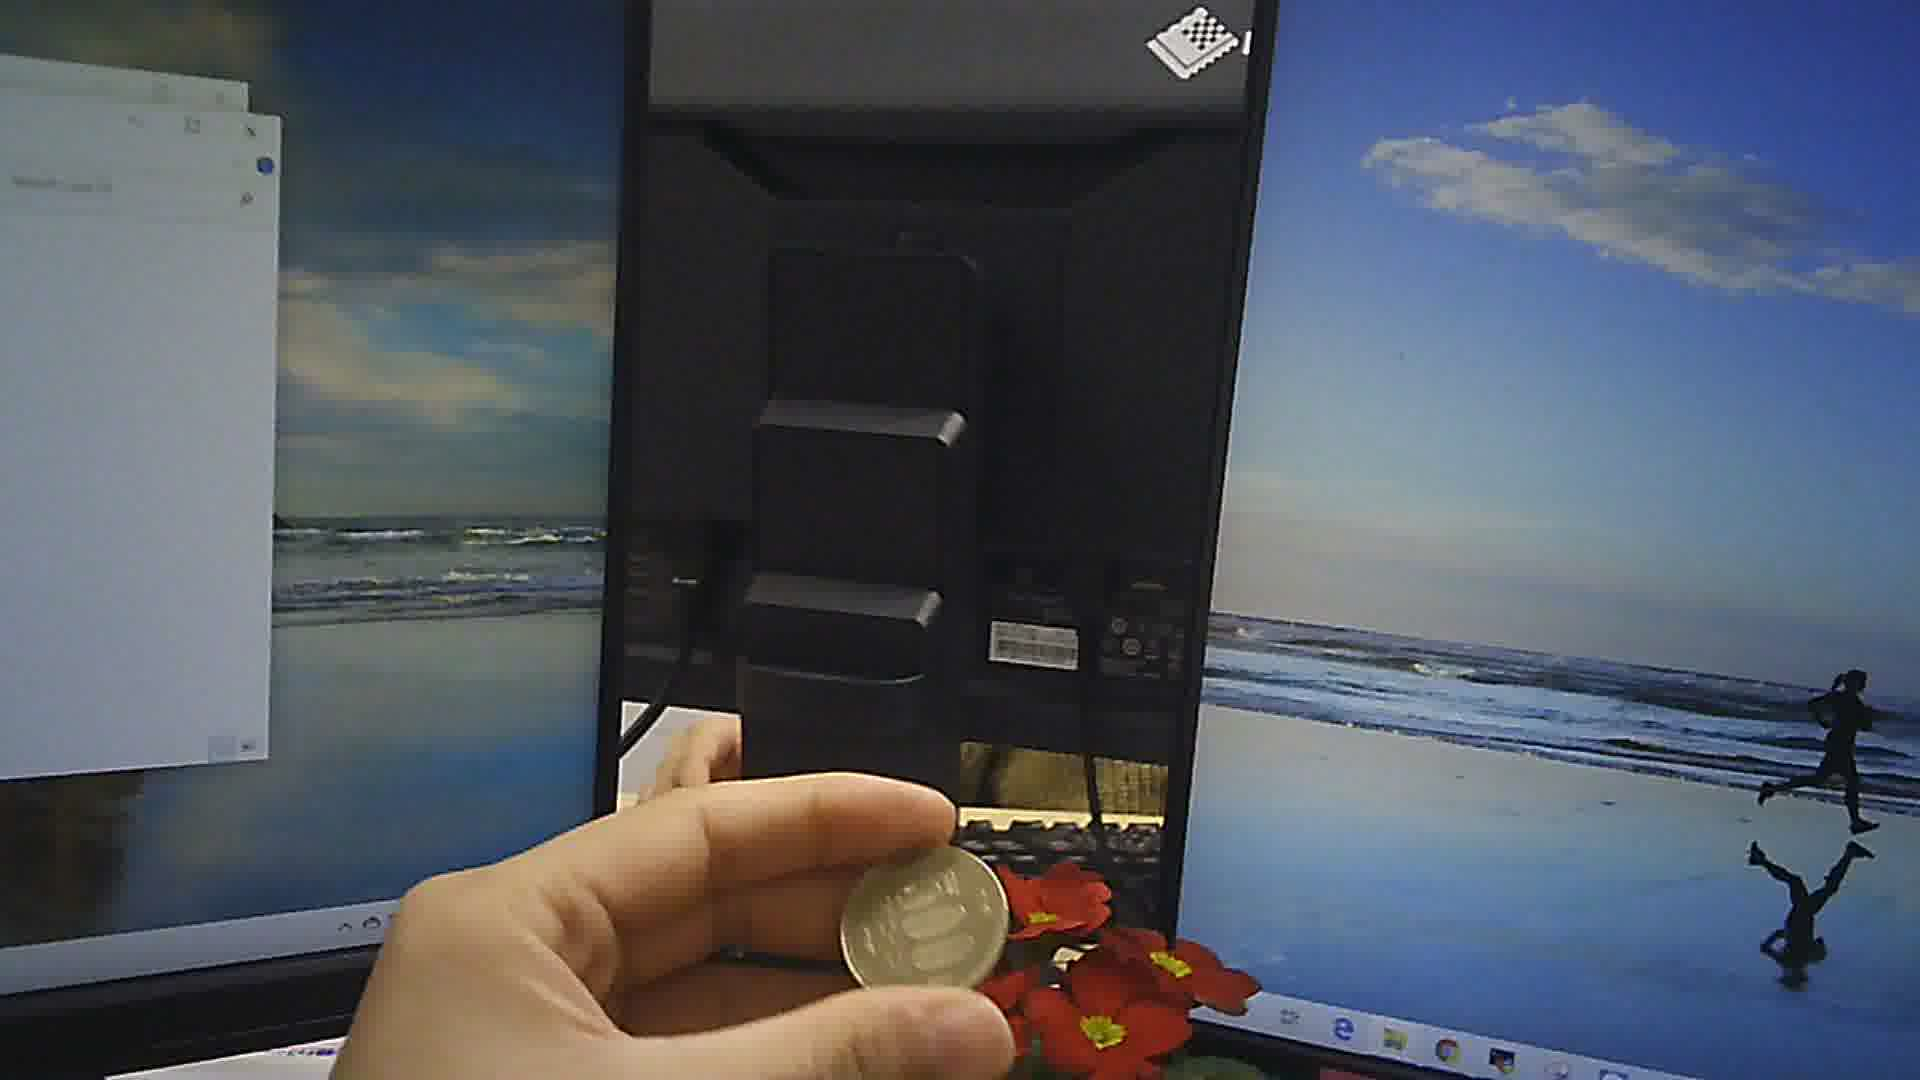500 Yen: (835, 835, 1011, 992)
